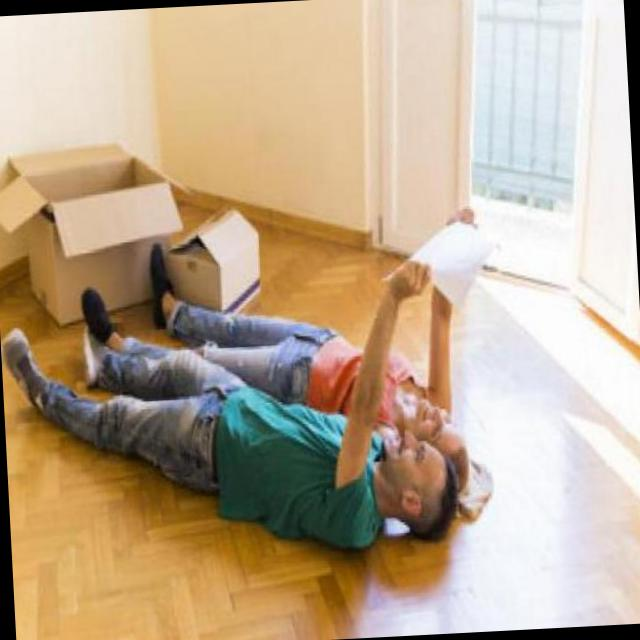box: (0, 97, 189, 360), (159, 184, 278, 366)
